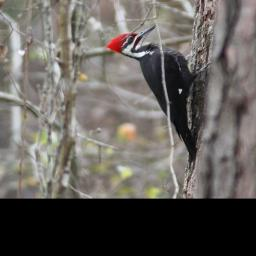Woodpecker: (103, 25, 212, 168)
